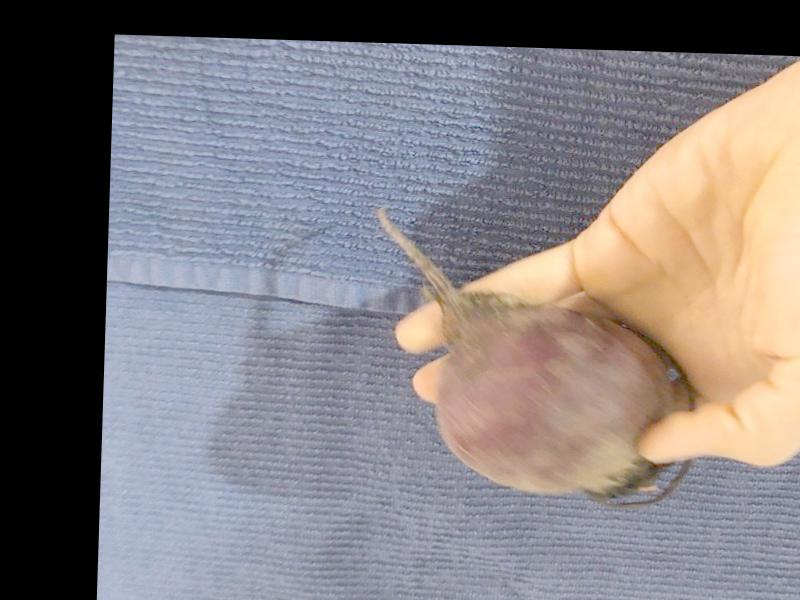Beet: (365, 206, 699, 510)
